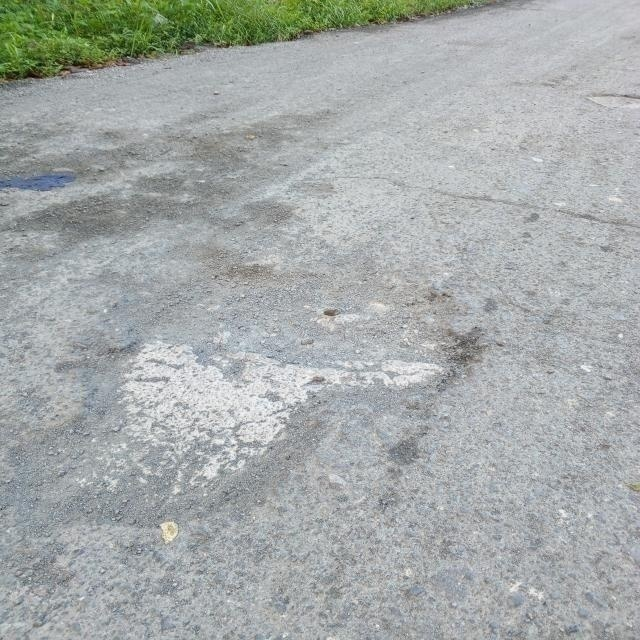pothole: (14, 218, 500, 536)
